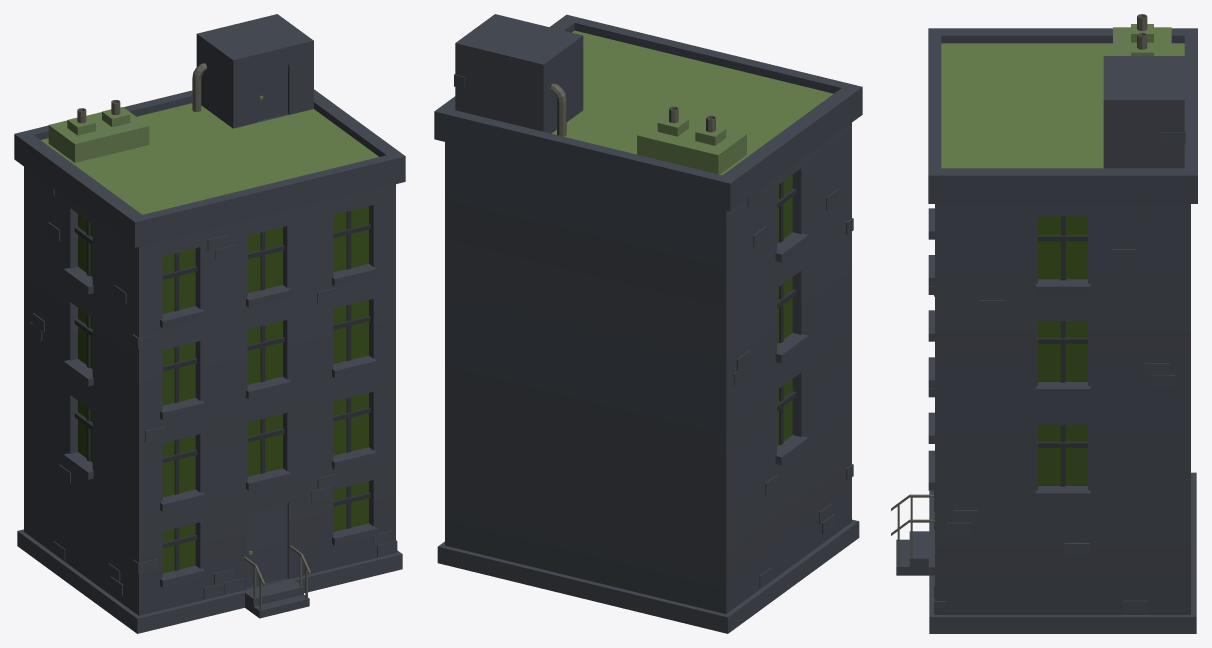
Rendered from House_02.fbx.
The picture shows the model from 3 angles, left to right: view 1: azimuth 30°, elevation 25°; view 2: azimuth 150°, elevation 25°; view 3: azimuth 270°, elevation 25°; orthographic projection. The views are drawn at different scales.
Visible parts, largest first — view 1: House_02; view 2: House_02; view 3: House_02.
Boxes of the visible parts, bbox=[...] form: House_02: bbox=[14, 14, 405, 633]; House_02: bbox=[434, 14, 862, 633]; House_02: bbox=[891, 14, 1197, 633].
Size of the model in its own units: 7.14 by 11.96 by 6.29.
